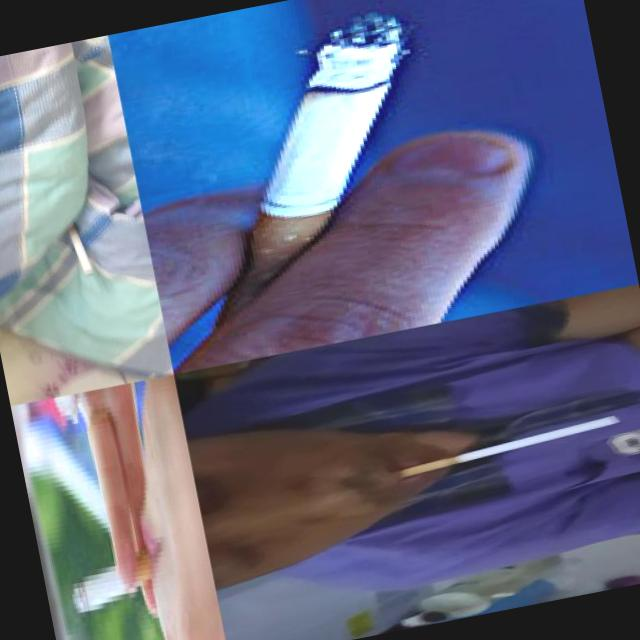cigarette: (204, 6, 447, 280), (390, 412, 627, 482), (66, 545, 162, 617), (63, 216, 95, 278)
